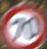Speed Limit -70-: (0, 0, 46, 48)
